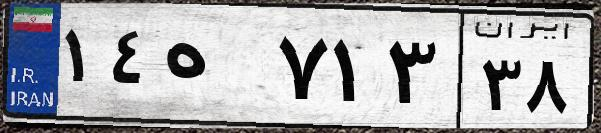1: (330, 28, 385, 110), (57, 26, 110, 100)
3: (385, 28, 445, 110), (475, 38, 525, 113)
4: (110, 28, 158, 98)
7: (270, 28, 330, 110)
8: (525, 38, 570, 115)
ه: (158, 20, 270, 120)
